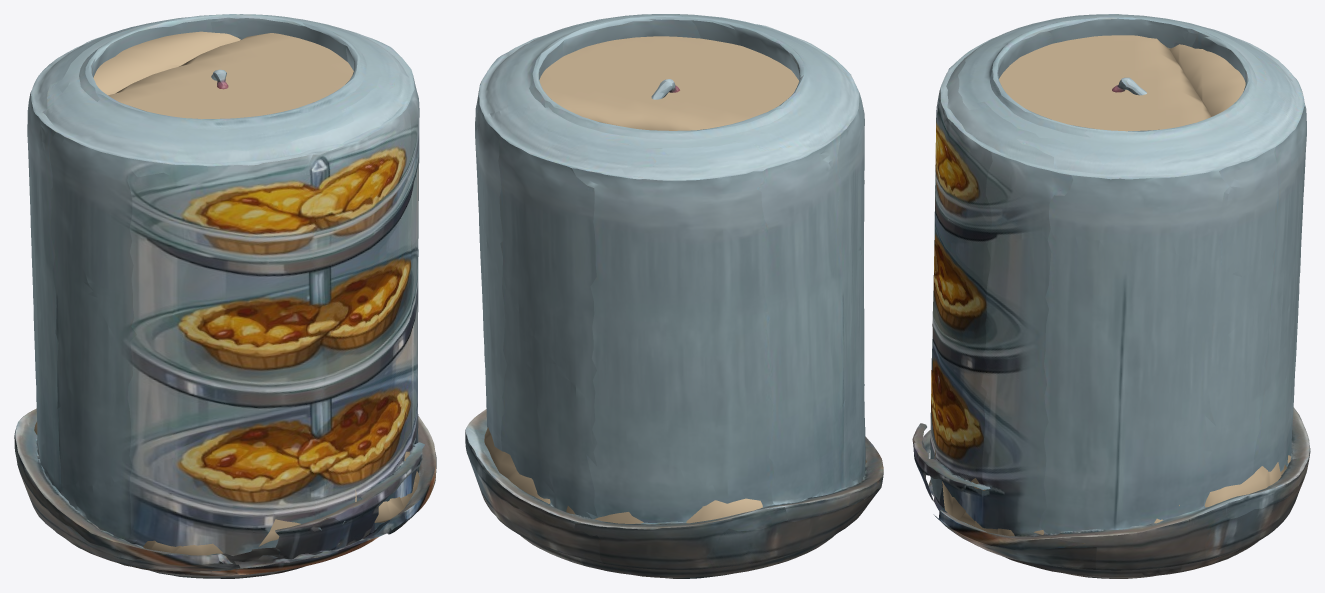
Rendered from piecase_chunks.glb.
3 views of the same model, side by side, from view 1: azimuth 30°, elevation 25°; view 2: azimuth 150°, elevation 25°; view 3: azimuth 270°, elevation 25° (orthographic).
Visible parts, largest first — view 1: chunk2_shell, chunk4_shell, chunk1_shell, chunk0_shell, chunk2_core, chunk1_core, chunk5_shell, chunk3_shell, chunk4_core, chunk0_core; view 2: chunk1_shell, chunk5_shell, chunk2_shell, chunk2_core, chunk3_shell, chunk5_core, chunk4_shell, chunk3_core, chunk0_shell; view 3: chunk0_shell, chunk2_shell, chunk1_shell, chunk3_shell, chunk2_core, chunk1_core, chunk5_shell, chunk4_shell, chunk3_core, chunk0_core.
Part boxes in pixels (x1=…): chunk2_shell: x1=40, y1=14, x2=419, y2=451; chunk4_shell: x1=57, y1=317, x2=353, y2=578; chunk1_shell: x1=14, y1=14, x2=242, y2=503; chunk0_shell: x1=339, y1=166, x2=436, y2=545; chunk2_core: x1=108, y1=33, x2=353, y2=119; chunk1_core: x1=93, y1=31, x2=240, y2=95; chunk5_shell: x1=19, y1=408, x2=153, y2=571; chunk3_shell: x1=301, y1=446, x2=364, y2=567; chunk4_core: x1=143, y1=519, x2=300, y2=555; chunk0_core: x1=374, y1=451, x2=419, y2=522; chunk1_shell: x1=475, y1=106, x2=865, y2=523; chunk5_shell: x1=521, y1=315, x2=870, y2=578; chunk2_shell: x1=475, y1=14, x2=864, y2=289; chunk2_core: x1=539, y1=36, x2=798, y2=130; chunk3_shell: x1=466, y1=224, x2=571, y2=561; chunk5_core: x1=566, y1=498, x2=762, y2=523; chunk4_shell: x1=850, y1=410, x2=883, y2=513; chunk3_core: x1=484, y1=427, x2=550, y2=503; chunk0_shell: x1=465, y1=203, x2=487, y2=450; chunk0_shell: x1=918, y1=237, x2=1236, y2=578; chunk2_shell: x1=934, y1=14, x2=1241, y2=270; chunk1_shell: x1=1169, y1=19, x2=1306, y2=325; chunk3_shell: x1=916, y1=275, x2=1306, y2=578; chunk2_core: x1=999, y1=35, x2=1211, y2=131; chunk1_core: x1=1169, y1=44, x2=1245, y2=116; chunk5_shell: x1=1283, y1=303, x2=1310, y2=481; chunk4_shell: x1=912, y1=267, x2=936, y2=493; chunk3_core: x1=934, y1=450, x2=1286, y2=507; chunk0_core: x1=942, y1=478, x2=1179, y2=536.
Bounding box in the file's own units: 0.734 × 0.9 × 0.7.
Materials: 1 (1 with a texture image).
